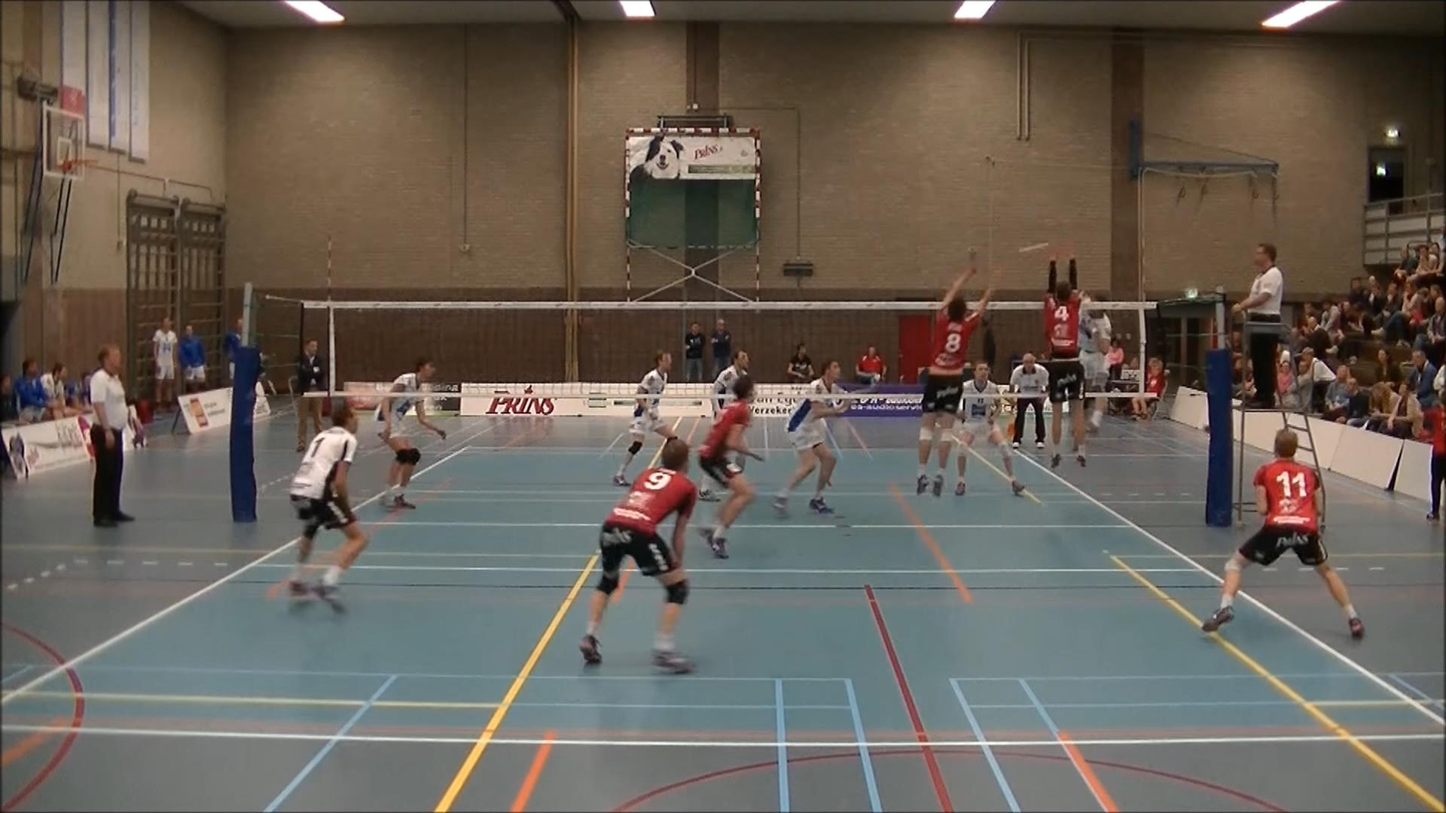attacco: (1072, 280, 1116, 440)
muro: (906, 256, 1002, 496), (1036, 249, 1090, 476)
